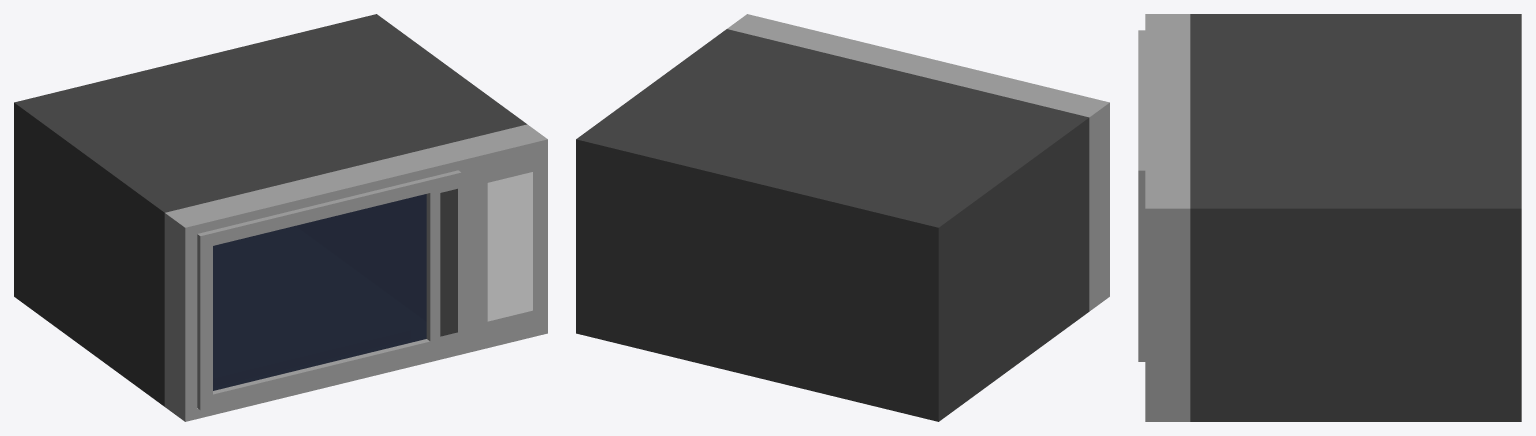
File: microwave.fbx
3 renders of one model, left to right at view 1: azimuth 30°, elevation 25°; view 2: azimuth 150°, elevation 25°; view 3: azimuth 270°, elevation 25°, orthographic. The views are drawn at different scales.
Visible parts, largest first — view 1: microwave, door; view 2: microwave; view 3: microwave, door.
Part boxes in pixels (left/top/right/bottom): microwave: left=14, top=14, right=547, bottom=421; door: left=197, top=170, right=461, bottom=410; microwave: left=576, top=14, right=1109, bottom=421; microwave: left=1145, top=14, right=1521, bottom=421; door: left=1138, top=30, right=1145, bottom=361.
Size of the model in its own units: 177 by 90.61 by 148.
